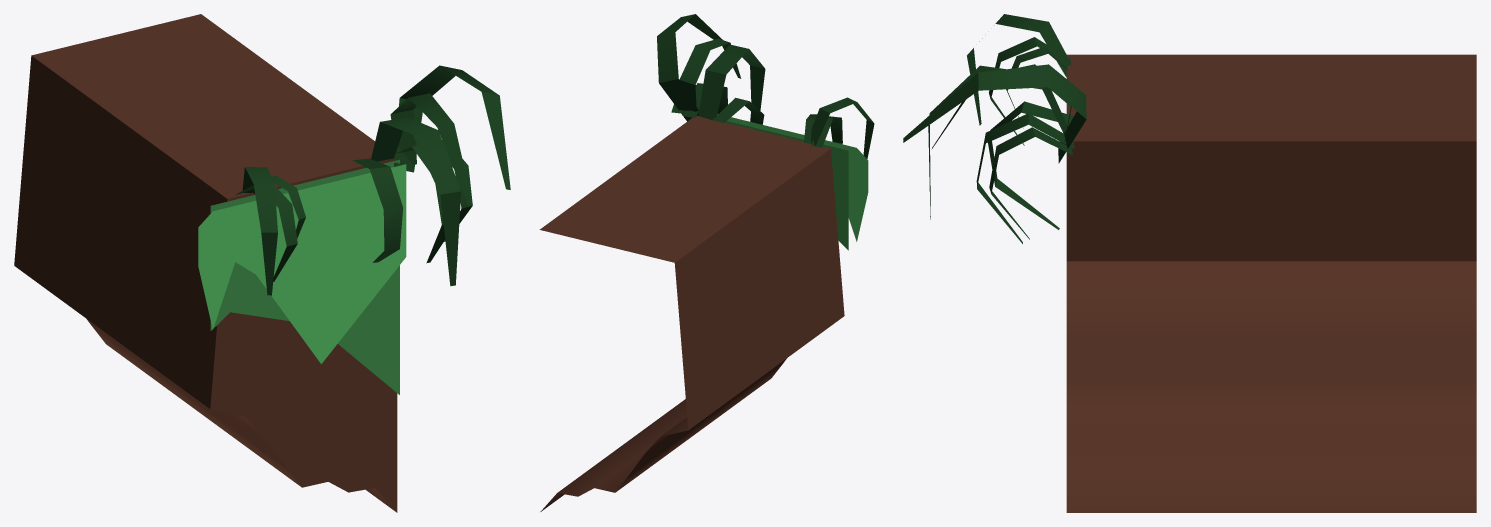
Rendered from Tile_Earth_Full_Left_001.fbx.
3 renders of one model, left to right at view 1: azimuth 30°, elevation 25°; view 2: azimuth 150°, elevation 25°; view 3: azimuth 270°, elevation 25°, orthographic. The views are drawn at different scales.
Visible parts, largest first — view 1: Environment_Earth_Full; view 2: Environment_Earth_Full; view 3: Environment_Earth_Full.
Part boxes in pixels (x1=…): Environment_Earth_Full: x1=14, y1=14, x2=510, y2=512; Environment_Earth_Full: x1=539, y1=14, x2=874, y2=511; Environment_Earth_Full: x1=903, y1=14, x2=1476, y2=512.
Size of the model in its own units: 79.01 by 125 by 140.
